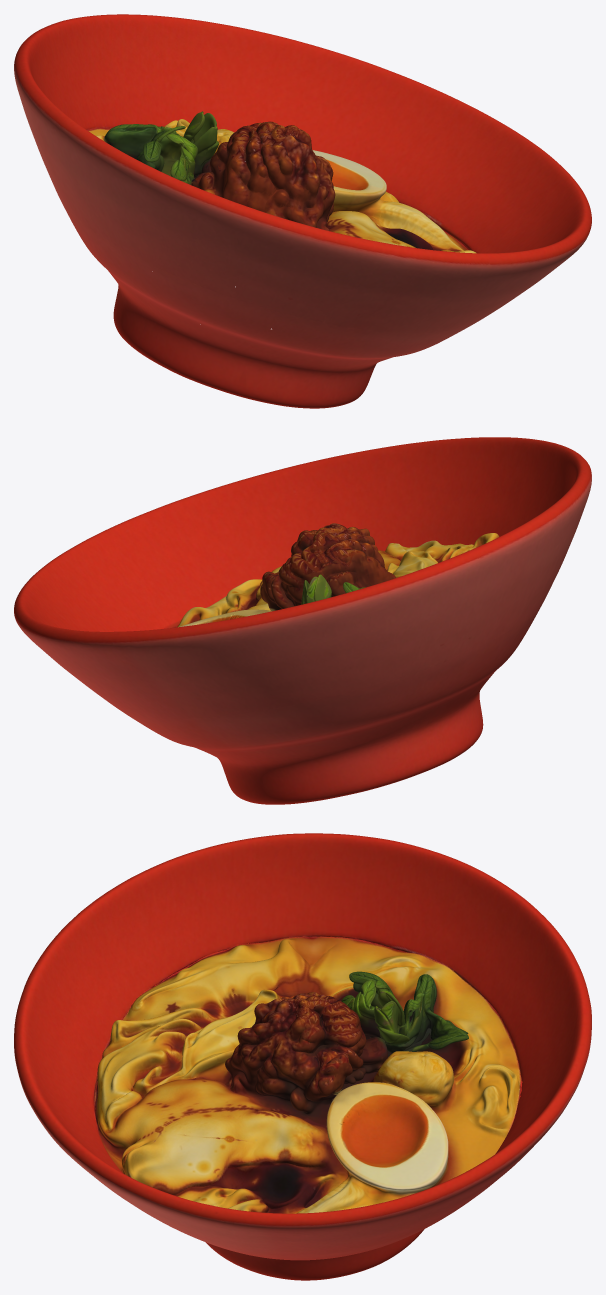
The model's file is tantanman.glb.
3 views of the same model, one above another, from view 1: azimuth 30°, elevation 25°; view 2: azimuth 150°, elevation 25°; view 3: azimuth 270°, elevation 25° (orthographic). The views are drawn at different scales.
Parts seen in each view (by area): view 1: tripo_node_1477228b-4883-45ae-80c3-8b4e8d632b19; view 2: tripo_node_1477228b-4883-45ae-80c3-8b4e8d632b19; view 3: tripo_node_1477228b-4883-45ae-80c3-8b4e8d632b19.
Boxes of the visible parts, x1,y1,x2,y2 form: tripo_node_1477228b-4883-45ae-80c3-8b4e8d632b19: (14, 14, 591, 408); tripo_node_1477228b-4883-45ae-80c3-8b4e8d632b19: (14, 437, 591, 804); tripo_node_1477228b-4883-45ae-80c3-8b4e8d632b19: (14, 833, 591, 1280).
Bounding box in the file's own units: 0.2873 × 0.1794 × 0.3.
1 material, 1 textured.
